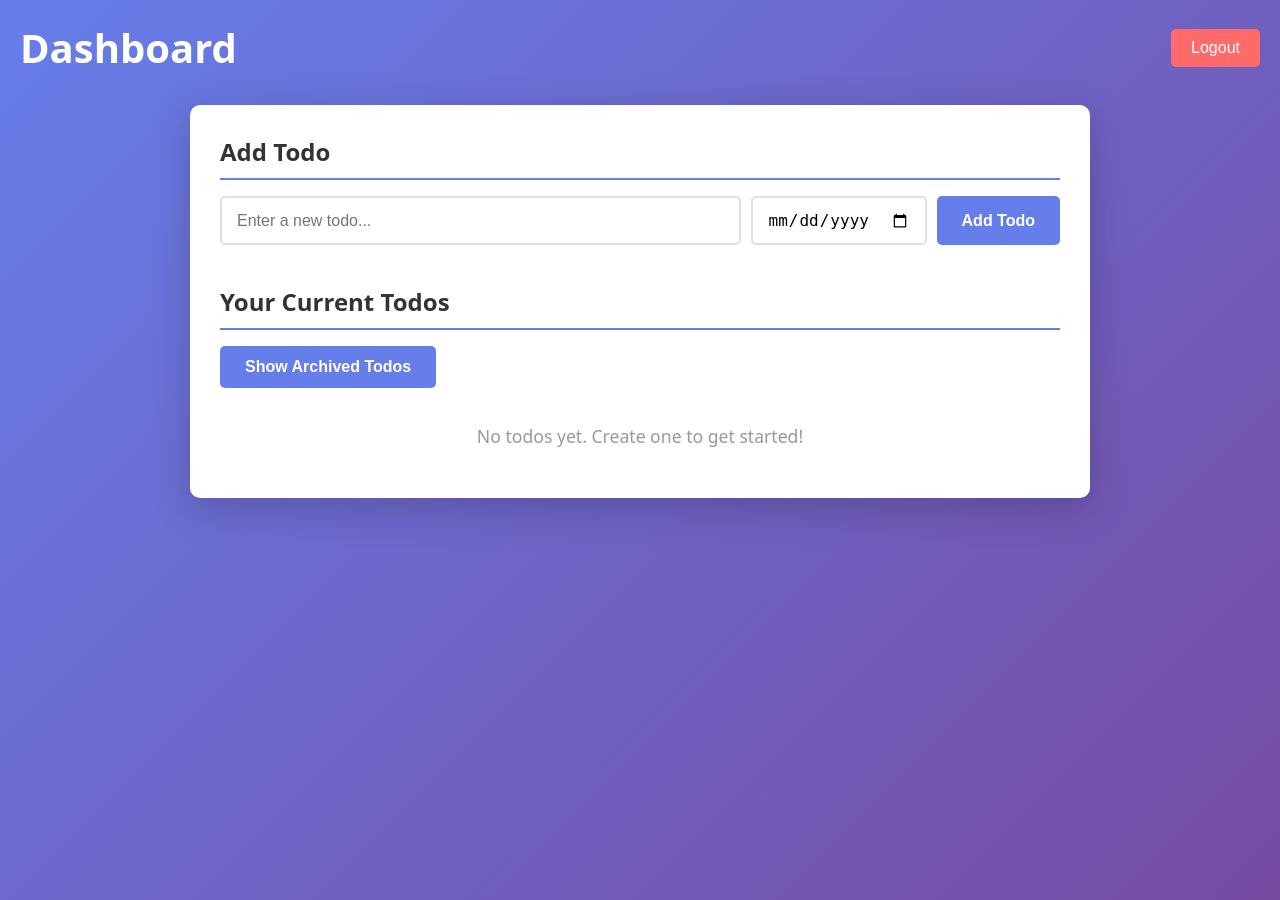
DashboardPage › archive toggle › should show correct section title based on display mode
This screenshot has width=1280, height=900.
Expected: the heading "Your Current Todos" is shown, [220, 285, 1060, 330]
Click the button "Show Archived Todos" at point(328, 367), box [220, 346, 436, 388]
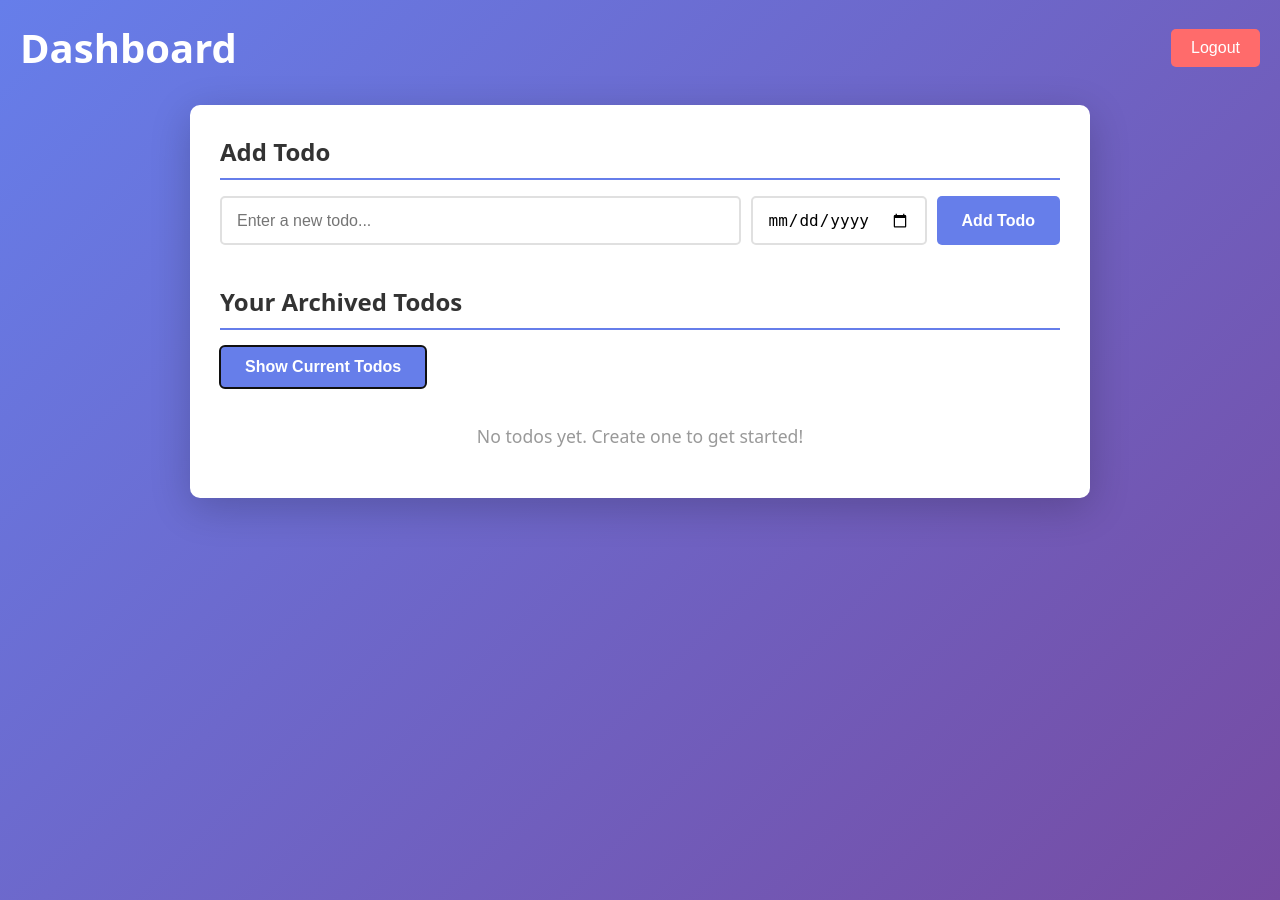
Expected: the heading "Your Archived Todos" is shown, [220, 285, 1060, 330]
